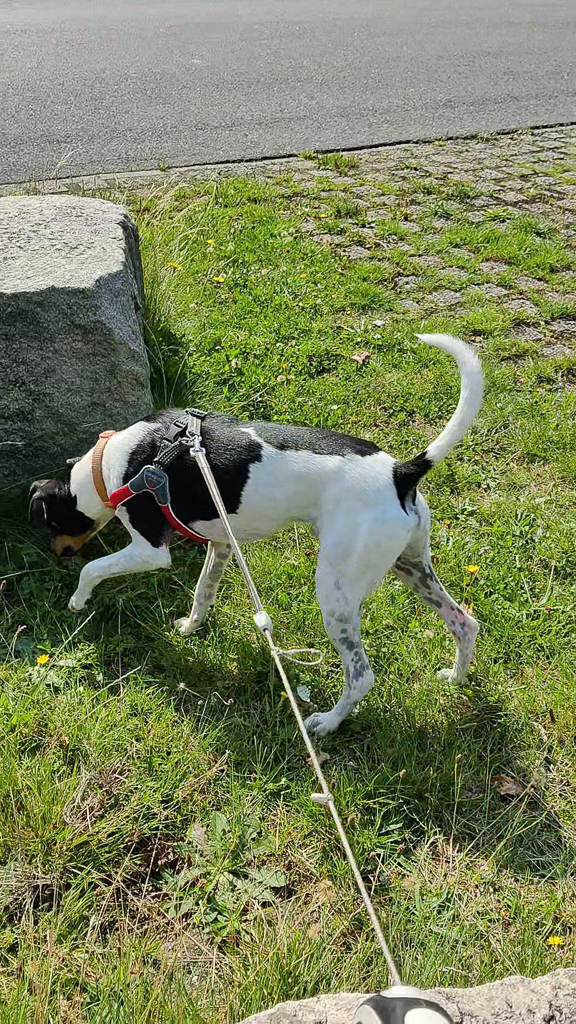Dog: (15, 318, 505, 738)
